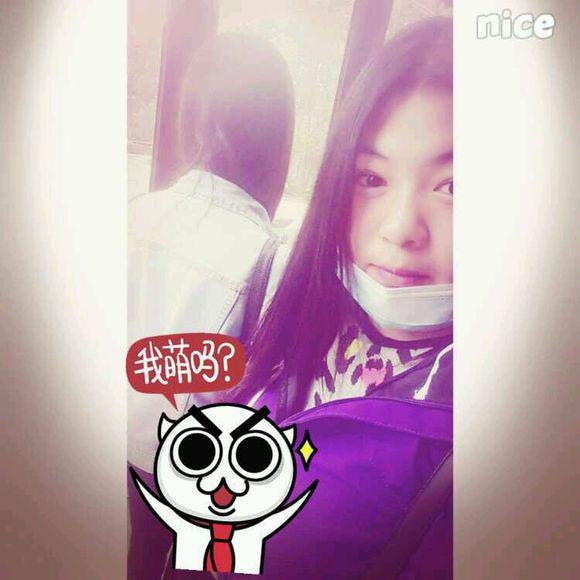WRONG: (335, 130, 478, 331)
